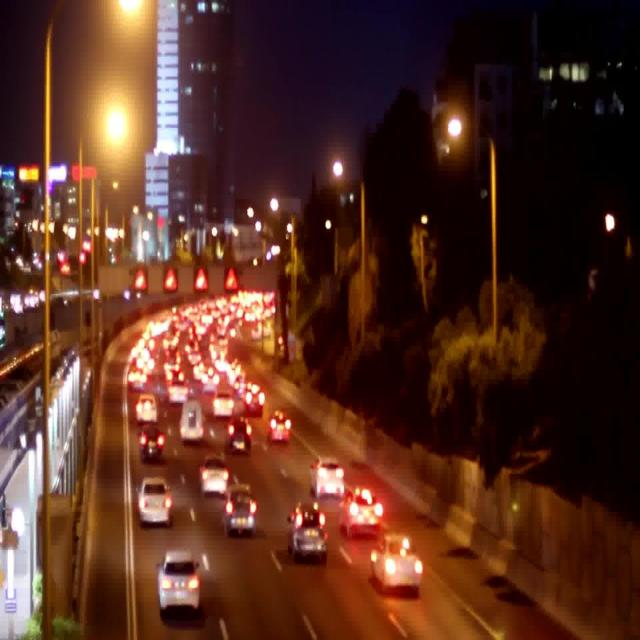Car: (366, 531, 426, 600), (156, 548, 203, 614), (288, 501, 330, 565), (341, 486, 385, 538), (224, 482, 262, 538), (136, 474, 174, 528), (312, 456, 348, 504), (200, 454, 231, 498), (209, 384, 237, 423), (138, 424, 166, 462), (270, 408, 298, 445), (227, 416, 253, 451), (134, 392, 160, 425), (245, 389, 268, 423)
Van: (180, 388, 204, 455)
